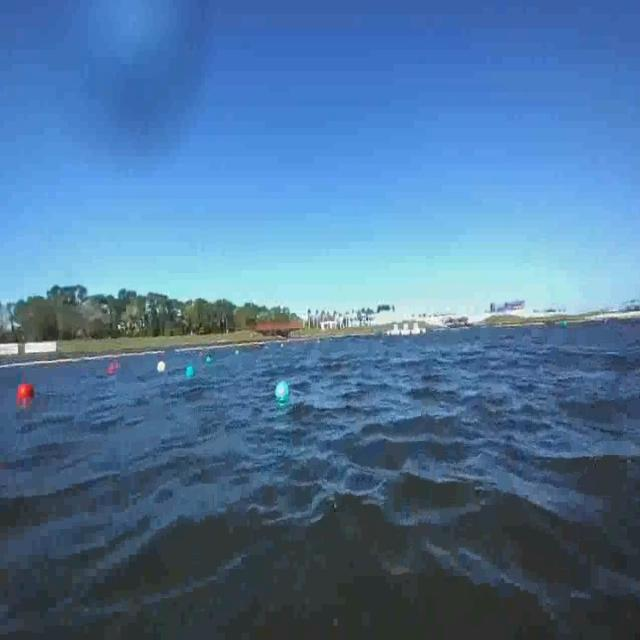green-buoy: (276, 379, 291, 401), (185, 364, 194, 377)
red-buoy: (20, 384, 37, 402), (107, 358, 120, 378)
yellow-buoy: (155, 353, 169, 375)
